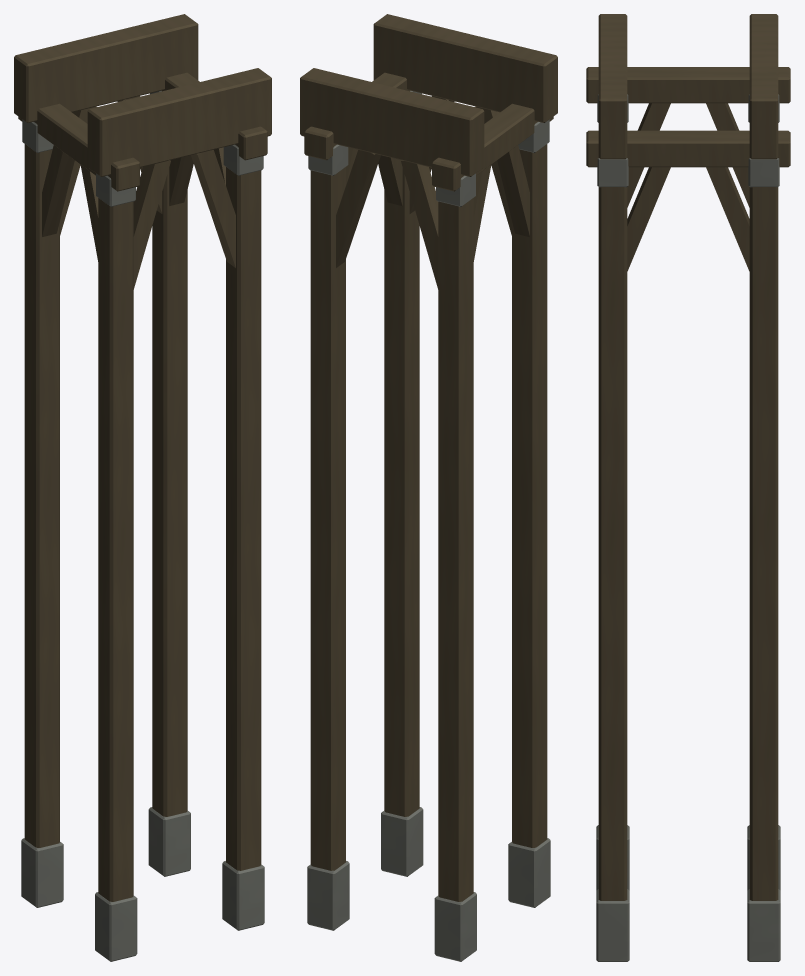
The model's file is WarrensC_WVC013_WellHoistFrame_Mars_SM.fbx.
The picture shows the model from 3 angles, left to right: view 1: azimuth 30°, elevation 25°; view 2: azimuth 150°, elevation 25°; view 3: azimuth 270°, elevation 25°; orthographic projection. The views are drawn at different scales.
Visible parts, largest first — view 1: WarrensC_WVC013_WellHoistFrame_Mars_SM.001; view 2: WarrensC_WVC013_WellHoistFrame_Mars_SM.001; view 3: WarrensC_WVC013_WellHoistFrame_Mars_SM.001.
Boxes of the visible parts, <box> form: WarrensC_WVC013_WellHoistFrame_Mars_SM.001: <box>14,14,271,961</box>; WarrensC_WVC013_WellHoistFrame_Mars_SM.001: <box>300,14,557,961</box>; WarrensC_WVC013_WellHoistFrame_Mars_SM.001: <box>586,14,790,961</box>.
Bounding box in the file's own units: 160 × 160 × 750.
